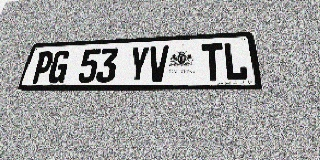3: (95, 48, 119, 83)
5: (77, 49, 101, 83)
G: (46, 50, 72, 83)
L: (223, 42, 249, 81)
P: (30, 51, 55, 84)
T: (201, 43, 225, 81)
V: (147, 46, 169, 82)
Y: (127, 46, 150, 82)
